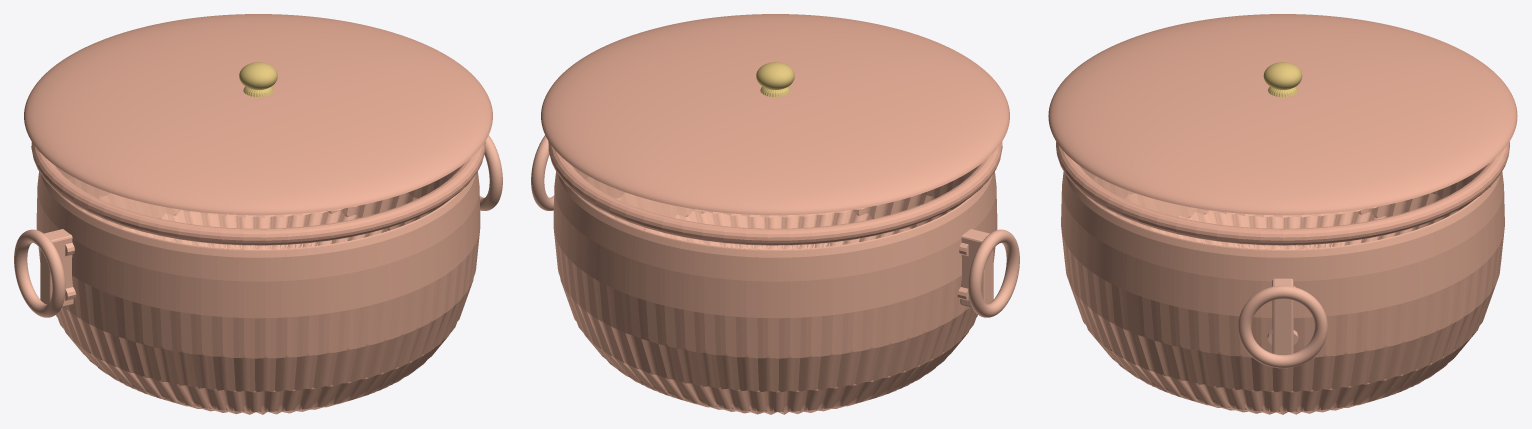
3 renders of one model, left to right at view 1: azimuth 30°, elevation 25°; view 2: azimuth 150°, elevation 25°; view 3: azimuth 270°, elevation 25°, orthographic.
Visible parts, largest first — view 1: Pot_Lid, Pot_Body, Pot_Rim, Pot_Handle_2, Pot_Handle_Connector_2, Pot_Handle_1, Lid_Knob_Top; view 2: Pot_Lid, Pot_Body, Pot_Rim, Pot_Handle_2, Pot_Handle_Connector_2, Pot_Handle_1, Lid_Knob_Top; view 3: Pot_Lid, Pot_Body, Pot_Rim, Pot_Handle_1, Pot_Handle_Connector_1, Lid_Knob_Top.
Part boxes in pixels (x1,y1,x2,y2): Pot_Lid: [24, 14, 492, 215]; Pot_Body: [36, 166, 480, 414]; Pot_Rim: [31, 141, 485, 245]; Pot_Handle_2: [14, 229, 65, 317]; Pot_Handle_Connector_2: [40, 229, 73, 307]; Pot_Handle_1: [479, 135, 502, 210]; Lid_Knob_Top: [239, 62, 277, 89]; Pot_Lid: [541, 14, 1009, 215]; Pot_Body: [553, 166, 997, 414]; Pot_Rim: [548, 141, 1002, 245]; Pot_Handle_2: [968, 229, 1019, 317]; Pot_Handle_Connector_2: [960, 229, 993, 307]; Pot_Handle_1: [531, 135, 554, 210]; Lid_Knob_Top: [756, 62, 794, 89]; Pot_Lid: [1048, 14, 1517, 215]; Pot_Body: [1061, 166, 1504, 414]; Pot_Rim: [1056, 142, 1509, 245]; Pot_Handle_1: [1238, 285, 1327, 368]; Pot_Handle_Connector_1: [1272, 278, 1293, 354]; Lid_Knob_Top: [1263, 62, 1302, 89].
Bounding box in the file's own units: 0.7391 × 0.507 × 0.6689.
